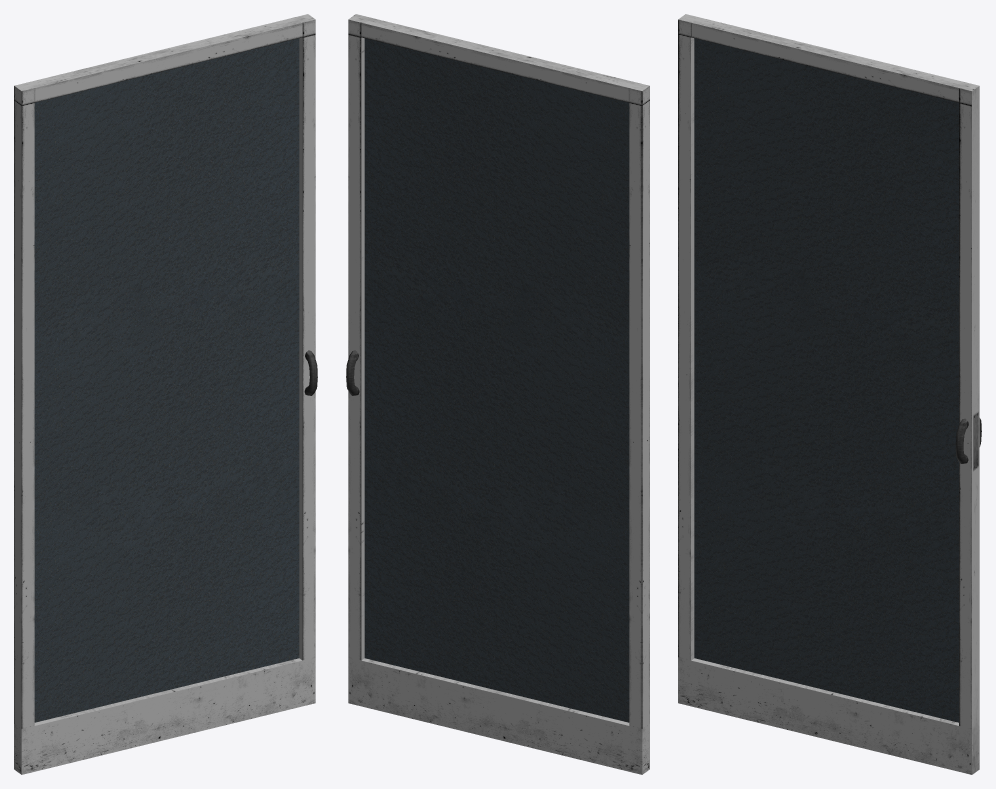
File: glass_door_single_left.fbx
3 views of the same model, side by side, from view 1: azimuth 30°, elevation 25°; view 2: azimuth 150°, elevation 25°; view 3: azimuth 330°, elevation 25° (orthographic).
Visible parts, largest first — view 1: glass_door_glass, glass_door; view 2: glass_door_glass, glass_door; view 3: glass_door_glass, glass_door.
Part boxes in pixels (bbox=[...]): glass_door_glass: bbox=[34, 38, 299, 722]; glass_door: bbox=[14, 14, 317, 774]; glass_door_glass: bbox=[364, 38, 629, 722]; glass_door: bbox=[346, 14, 649, 774]; glass_door_glass: bbox=[694, 38, 958, 722]; glass_door: bbox=[678, 14, 981, 774].
Bounding box in the file's own units: 0.9 × 2 × 0.1178.
